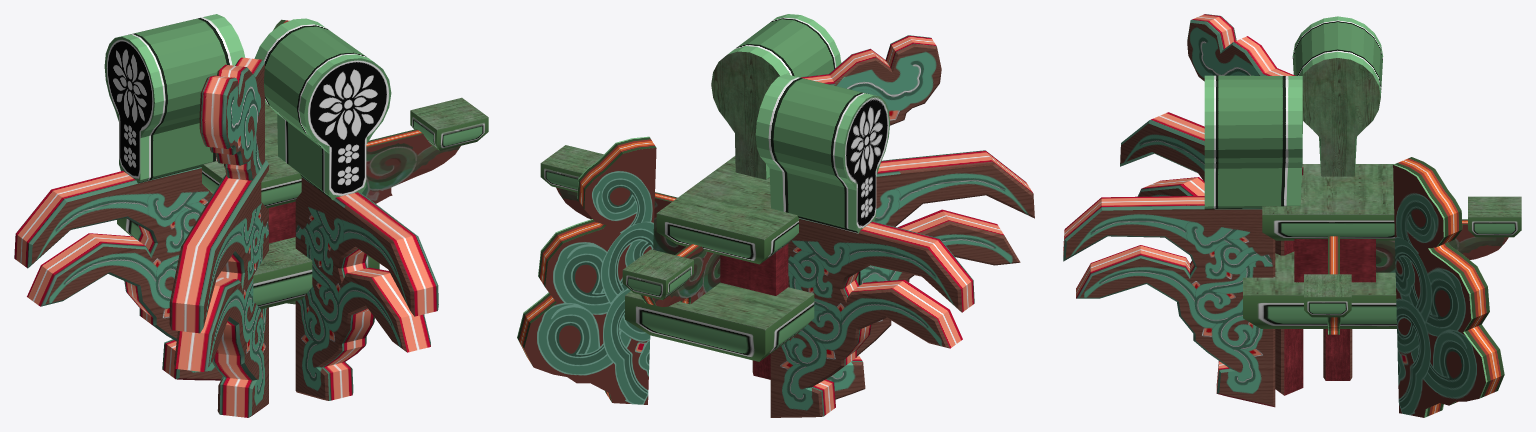
File: SM_R_DancheongCorner_1.fbx
3 views of the same model, side by side, from view 1: azimuth 30°, elevation 25°; view 2: azimuth 150°, elevation 25°; view 3: azimuth 270°, elevation 25° (orthographic). The views are drawn at different scales.
Visible parts, largest first — view 1: SM_R_DancheongCorner_1; view 2: SM_R_DancheongCorner_1; view 3: SM_R_DancheongCorner_1.
Part boxes in pixels (<box>): SM_R_DancheongCorner_1: <box>14,14,488,417</box>; SM_R_DancheongCorner_1: <box>517,14,1034,417</box>; SM_R_DancheongCorner_1: <box>1063,14,1521,417</box>.
Bounding box in the file's own units: 168 × 166 × 135.
6 materials, 6 textured.
